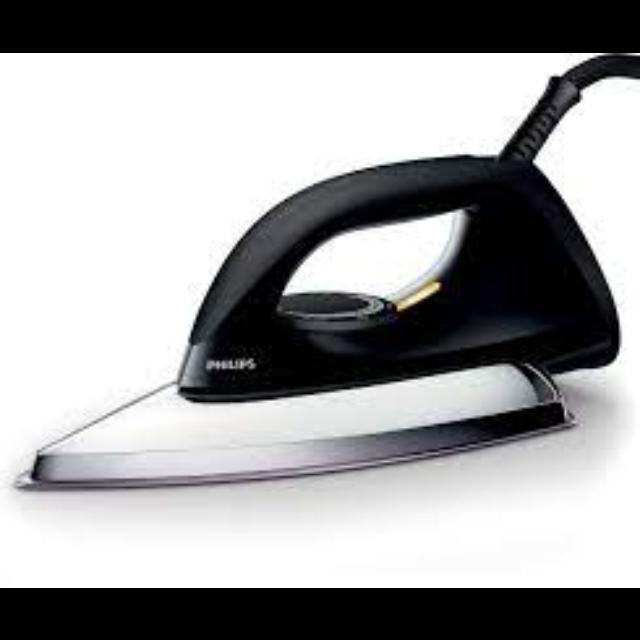Clothes-Iron: (86, 116, 572, 486)
